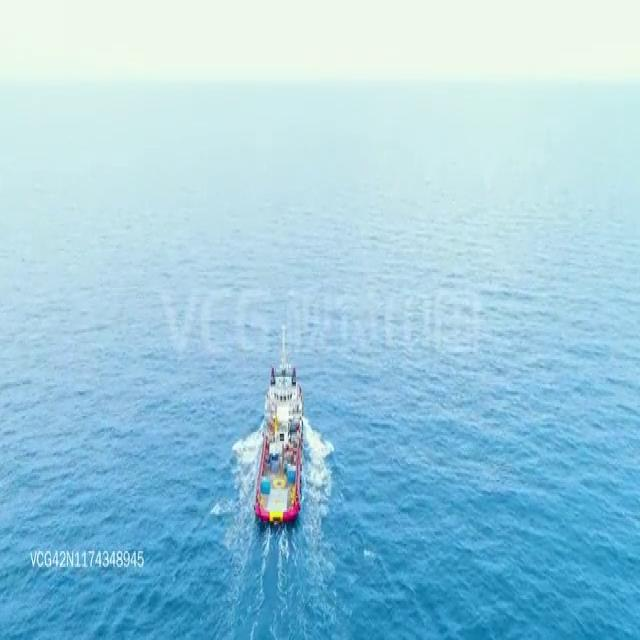fishing boat: (255, 321, 305, 519)
